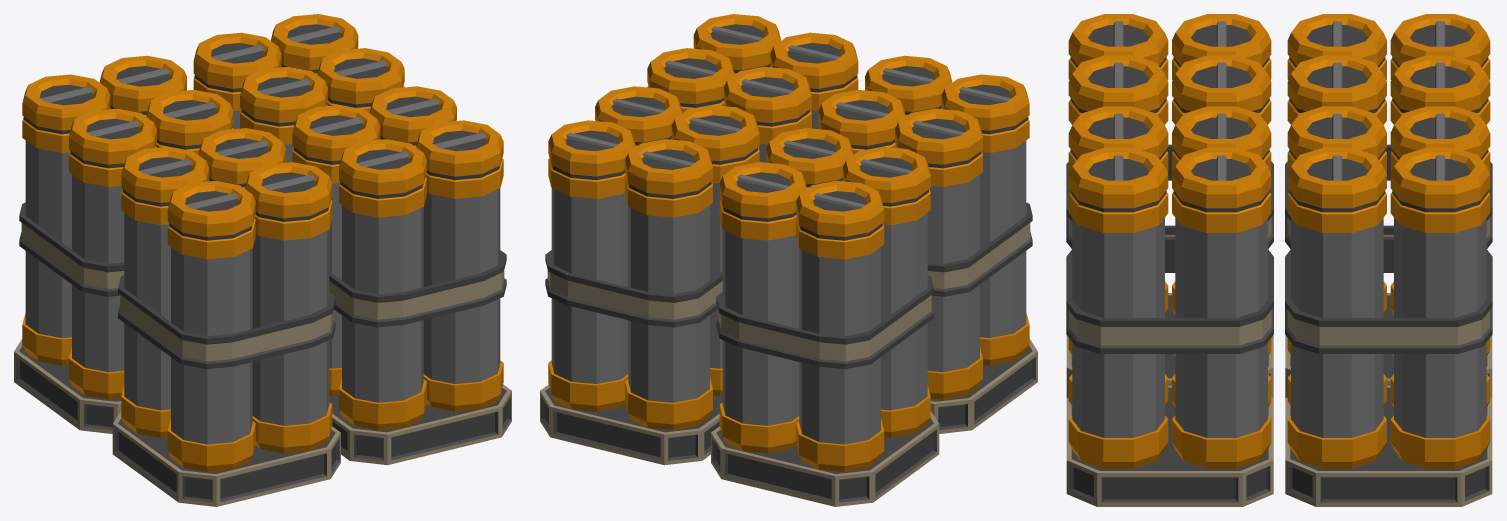
The model's file is PaletePilhas.fbx.
The picture shows the model from 3 angles, left to right: view 1: azimuth 30°, elevation 25°; view 2: azimuth 150°, elevation 25°; view 3: azimuth 270°, elevation 25°; orthographic projection. The views are drawn at different scales.
Parts seen in each view (by area): view 1: Canister00; view 2: Canister00; view 3: Canister00.
Boxes of the visible parts, left/top/right/bottom form: Canister00: left=14, top=14, right=511, bottom=506; Canister00: left=540, top=14, right=1037, bottom=506; Canister00: left=1066, top=14, right=1492, bottom=506.
Bounding box in the file's own units: 1.95 × 1.6 × 1.95.
